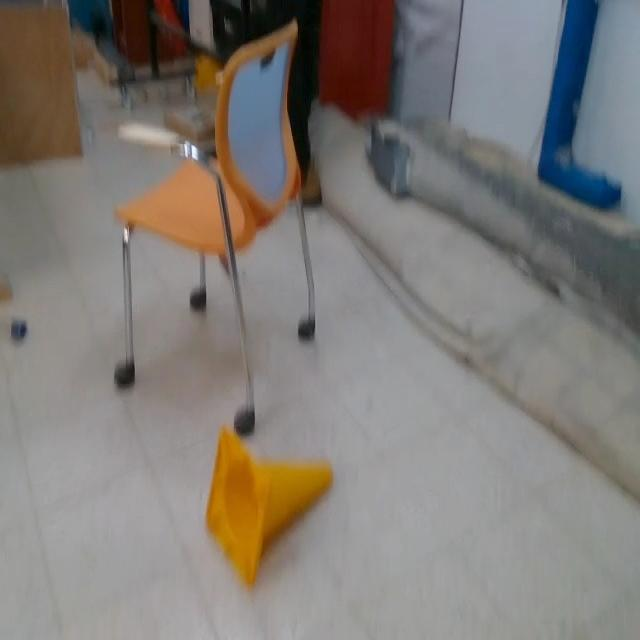cone: (206, 424, 336, 588)
